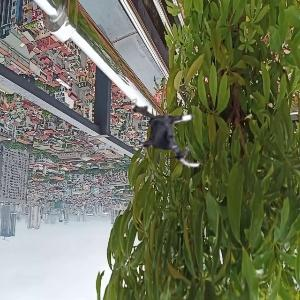drone: (120, 88, 213, 181)
